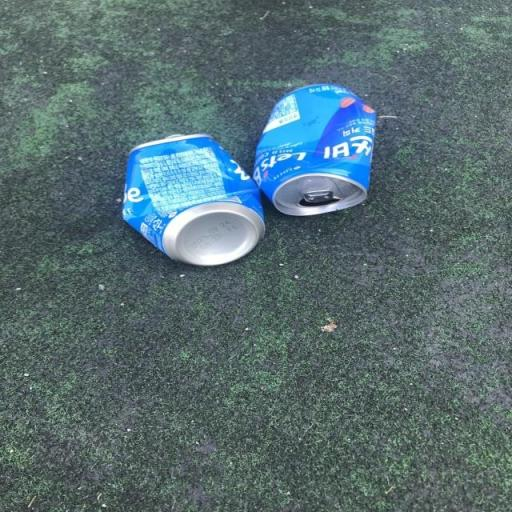metal: (62, 77, 270, 296), (263, 64, 396, 282)
